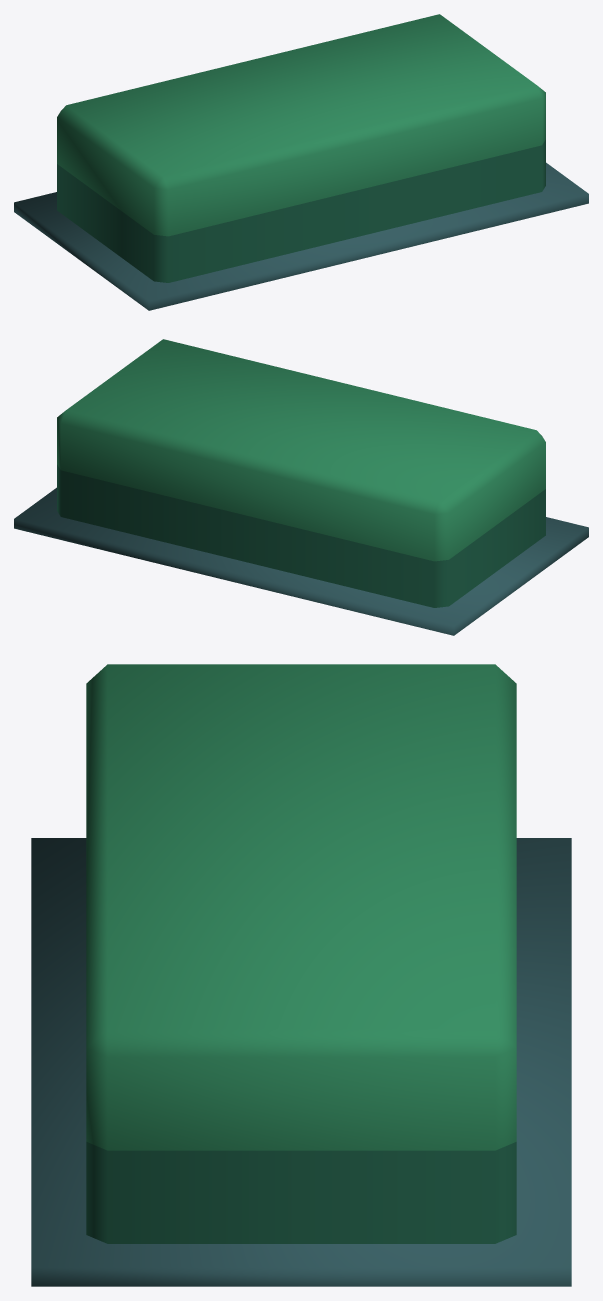
File: RoofAdd_2_B_2.glb
3 views of the same model, one above another, from view 1: azimuth 30°, elevation 25°; view 2: azimuth 150°, elevation 25°; view 3: azimuth 270°, elevation 25° (orthographic). The views are drawn at different scales.
Visible parts, largest first — view 1: RoofAdd_2_B_2; view 2: RoofAdd_2_B_2; view 3: RoofAdd_2_B_2.
Part boxes in pixels (left/top/right/bottom): RoofAdd_2_B_2: left=14, top=14, right=588, bottom=310; RoofAdd_2_B_2: left=14, top=339, right=588, bottom=635; RoofAdd_2_B_2: left=31, top=664, right=571, bottom=1286.
Size of the model in its own units: 3.03 by 0.7417 by 1.61.
1 material, 1 textured.
